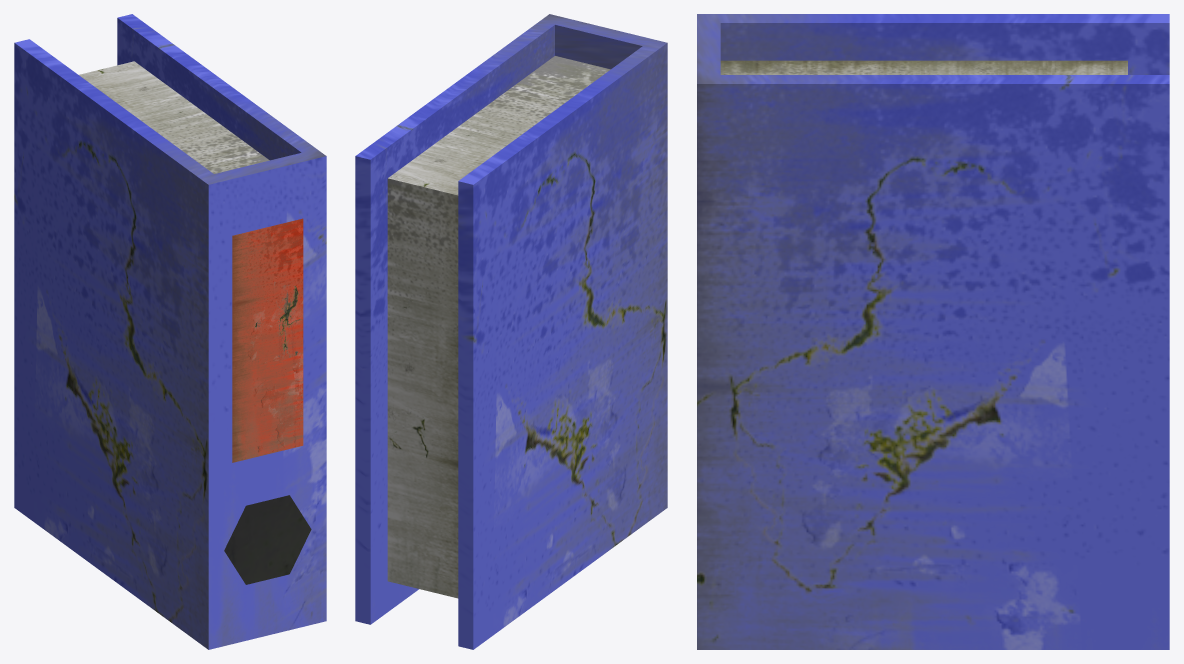
Rendered from folder_01.fbx.
3 views of the same model, side by side, from view 1: azimuth 30°, elevation 25°; view 2: azimuth 150°, elevation 25°; view 3: azimuth 270°, elevation 25° (orthographic). The views are drawn at different scales.
Visible parts, largest first — view 1: folder_01; view 2: folder_01; view 3: folder_01.
Boxes of the visible parts, x1,y1,x2,y2 form: folder_01: (14,14,326,649); folder_01: (355,14,667,649); folder_01: (697,14,1169,649).
Bounding box in the file's own units: 0.07 × 0.2636 × 0.1997.
